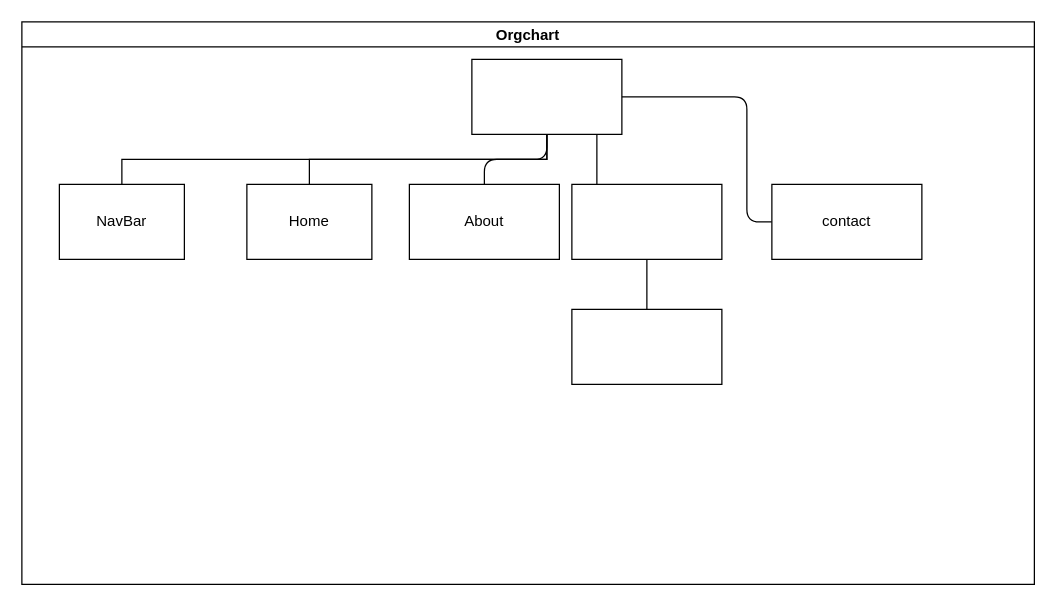
Image size: 1056x606. Some labels were removed from this diagram. Here are the shapes that lost their labels. From the top down, the box of each, then its label:
(471, 58, 622, 134): App
(571, 183, 722, 259): MyWork
(571, 308, 722, 384): MyWorkCard
